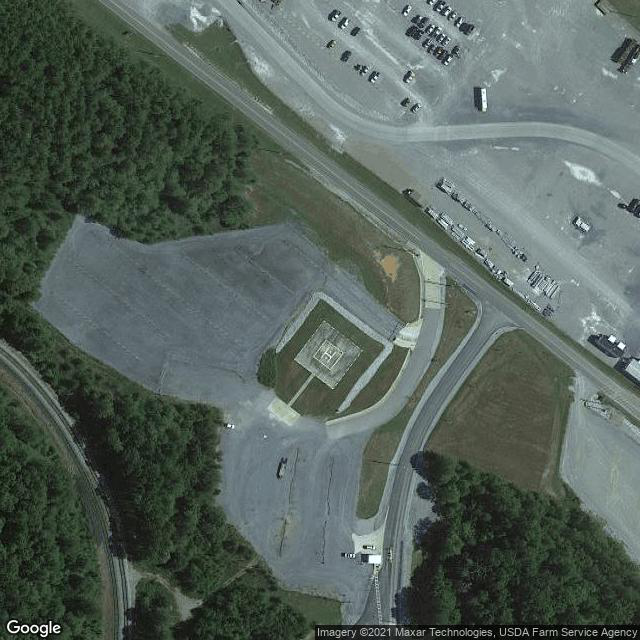Helipad: (310, 337, 346, 372)
